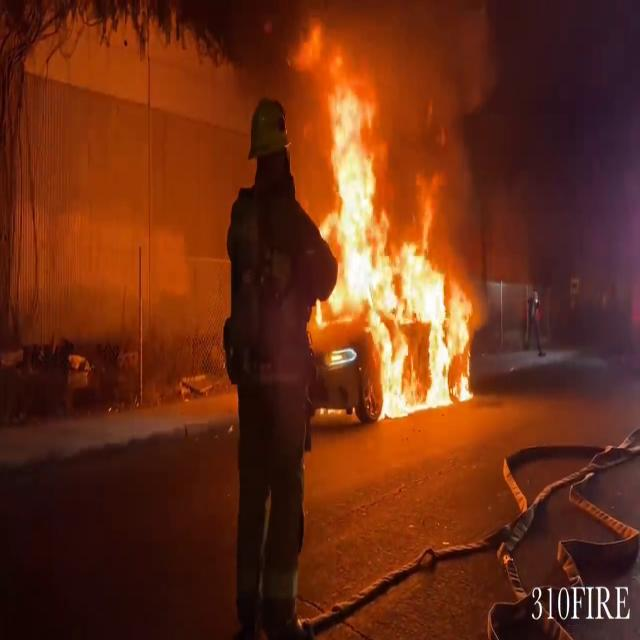Fire: (295, 25, 480, 420)
